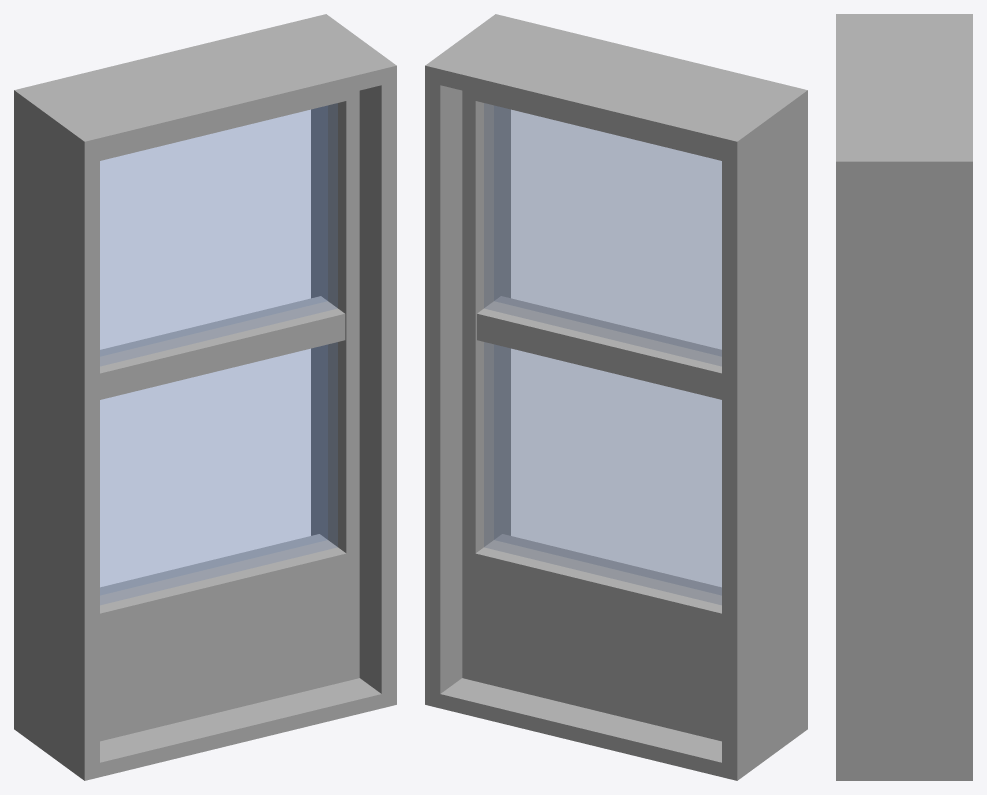
Rendered from GAMEJAMHERO - Glass Door.fbx.
3 views of the same model, side by side, from view 1: azimuth 30°, elevation 25°; view 2: azimuth 150°, elevation 25°; view 3: azimuth 270°, elevation 25° (orthographic). The views are drawn at different scales.
Parts seen in each view (by area): view 1: Wall(Outside Wrap).005; view 2: Wall(Outside Wrap).005; view 3: Wall(Outside Wrap).005.
Boxes of the visible parts, x1,y1,x2,y2 form: Wall(Outside Wrap).005: [14, 14, 396, 780]; Wall(Outside Wrap).005: [425, 14, 807, 780]; Wall(Outside Wrap).005: [836, 14, 972, 780].
Size of the model in its own units: 230 by 450 by 90.
Materials: 2 (1 with a texture image).
